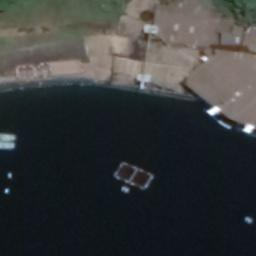square_solid: (127, 168, 156, 193), (111, 160, 139, 185)
